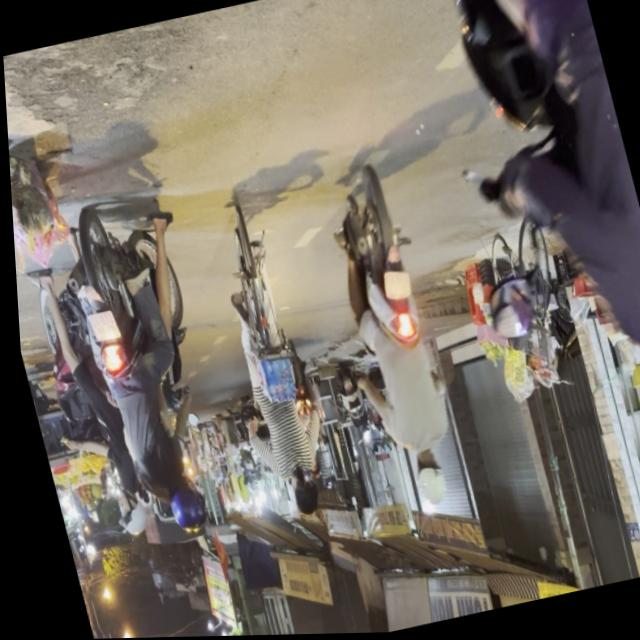helmet: (157, 471, 205, 537), (405, 451, 448, 512), (107, 490, 146, 541)
licenseplate: (419, 0, 640, 596), (53, 191, 243, 553), (310, 165, 471, 520)
nohelmet: (377, 271, 412, 305), (85, 313, 118, 345)
